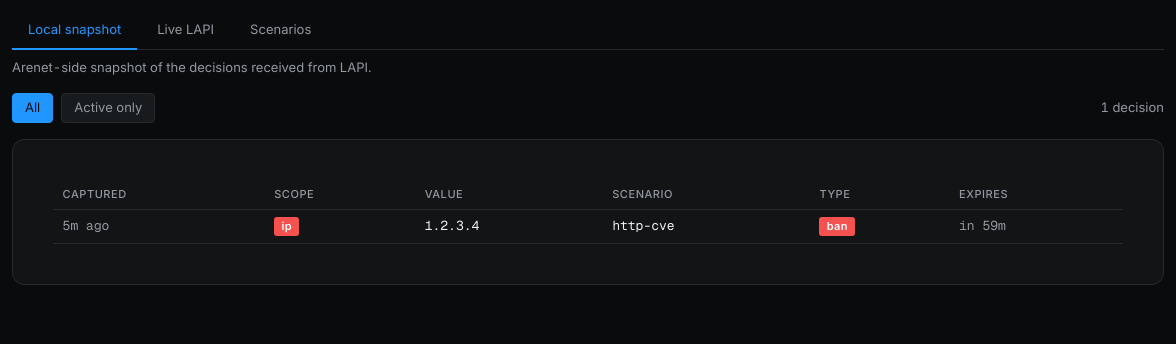
CrowdSec decisions panel — Live LAPI tab › shows category-empty state when filter has 0 matches but LAPI has data
Click the tab with test id "tab-live".
click(186, 31)  # box top-left (141, 12), bottom-right (230, 50)
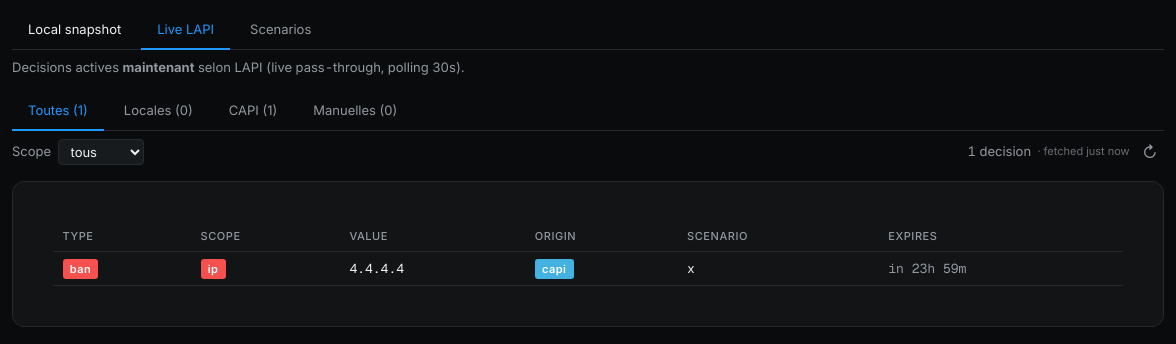
Now the tab with test id "live-tab-manual" is shown
Click the tab with test id "live-tab-manual".
click(355, 112)  # box top-left (297, 93), bottom-right (413, 130)
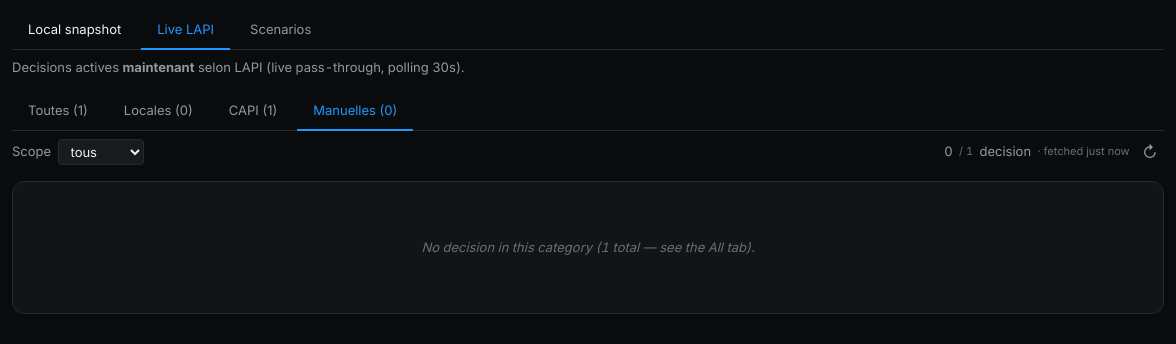
Now the text with test id "live-empty" shows "this category", box top-left (421, 239), bottom-right (755, 255)
Now the text with test id "live-empty" shows "1 total", box top-left (421, 239), bottom-right (755, 255)
